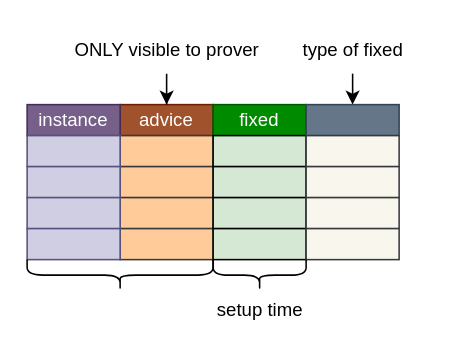
Some shapes in this 450 by 360 pixel diagram are drawn without their labels. Each missing label, with the box of its shape:
proving time: (26, 258, 213, 291)
selector: (305, 103, 399, 136)
